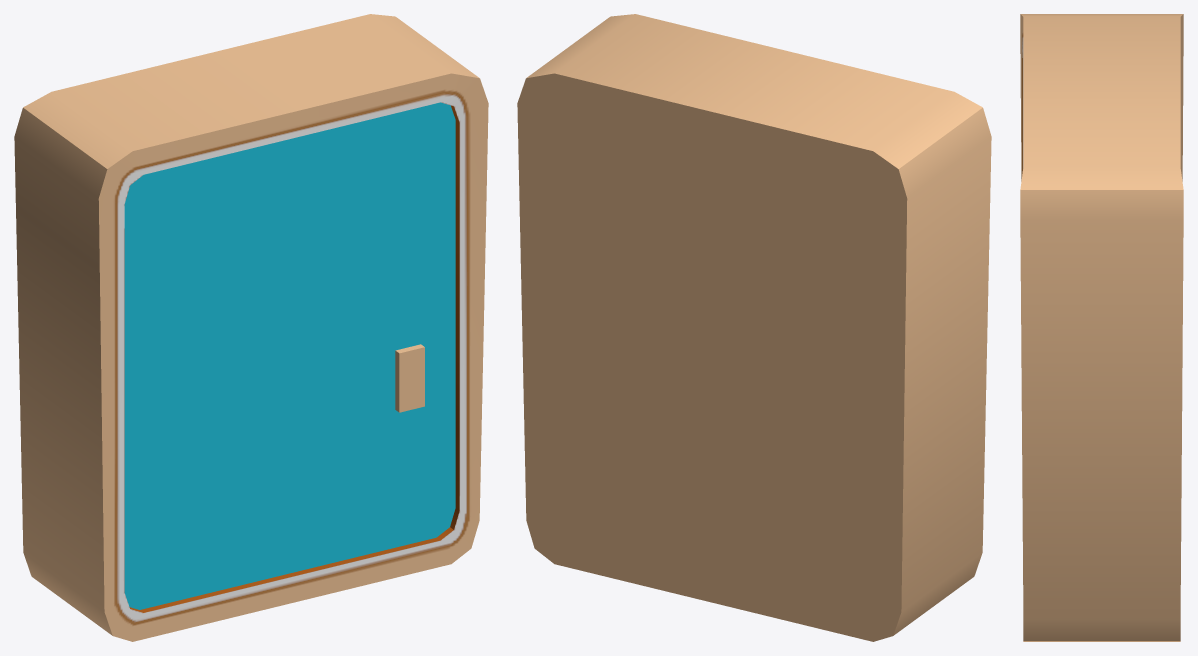
File: SM_DormitorysnackCabinet_01.fbx
3 views of the same model, side by side, from view 1: azimuth 30°, elevation 25°; view 2: azimuth 150°, elevation 25°; view 3: azimuth 270°, elevation 25° (orthographic). The views are drawn at different scales.
Visible parts, largest first — view 1: SM_DormitorysnackCabinet_01; view 2: SM_DormitorysnackCabinet_01; view 3: SM_DormitorysnackCabinet_01.
Boxes of the visible parts, x1,y1,x2,y2 form: SM_DormitorysnackCabinet_01: (14,14,488,641); SM_DormitorysnackCabinet_01: (517,14,991,641); SM_DormitorysnackCabinet_01: (1020,14,1183,641).
Size of the model in its own units: 8.31 by 10 by 3.12.
2 materials, 1 textured.
